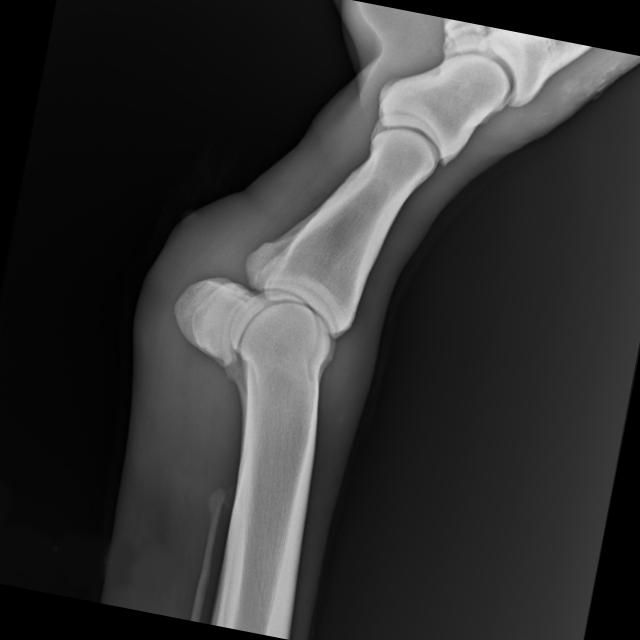joint-ht8A: (132, 197, 435, 482)
